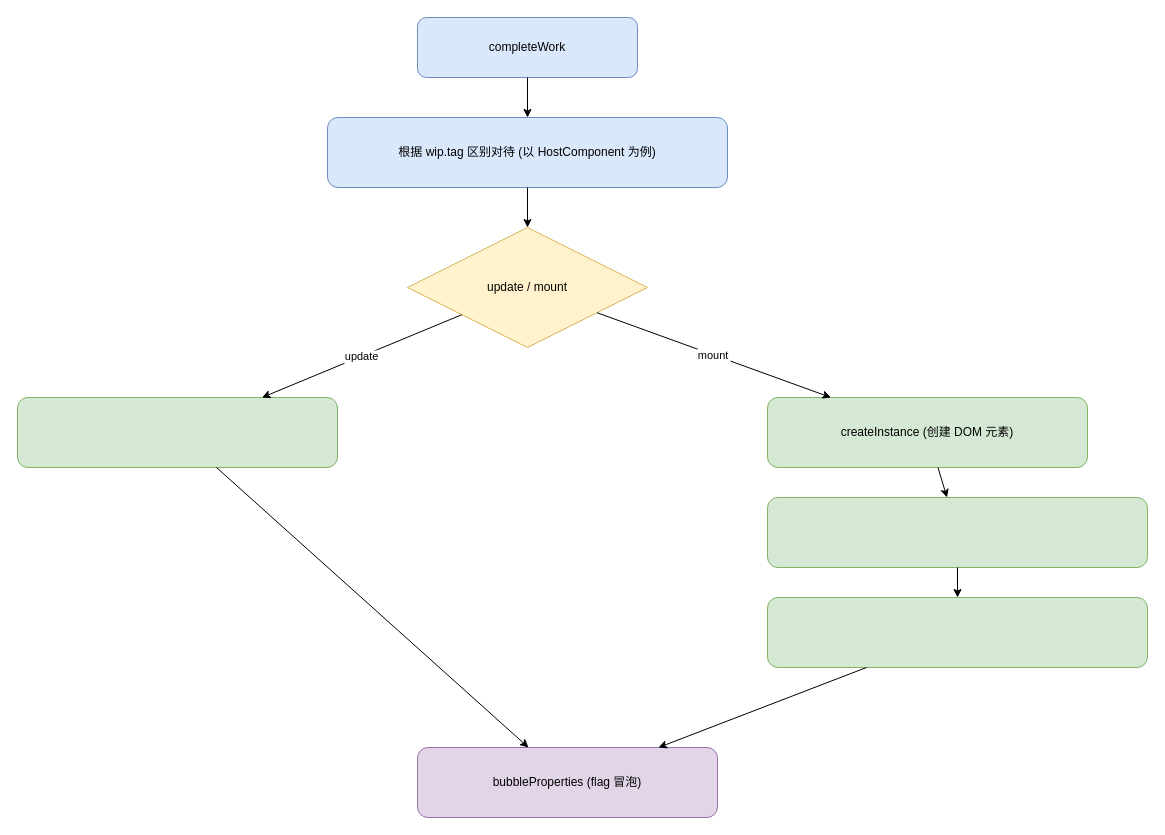
Some shapes in this 1165 by 835 pixel diagram are drawn without their labels. Each missing label, with the centre of its shape:
appendAllChildren (对子节点执行 appendChild): point 957,532
finalizeInitialChildren (设置 DOM 属性): point 957,632
updateHostComponent: point 177,432
